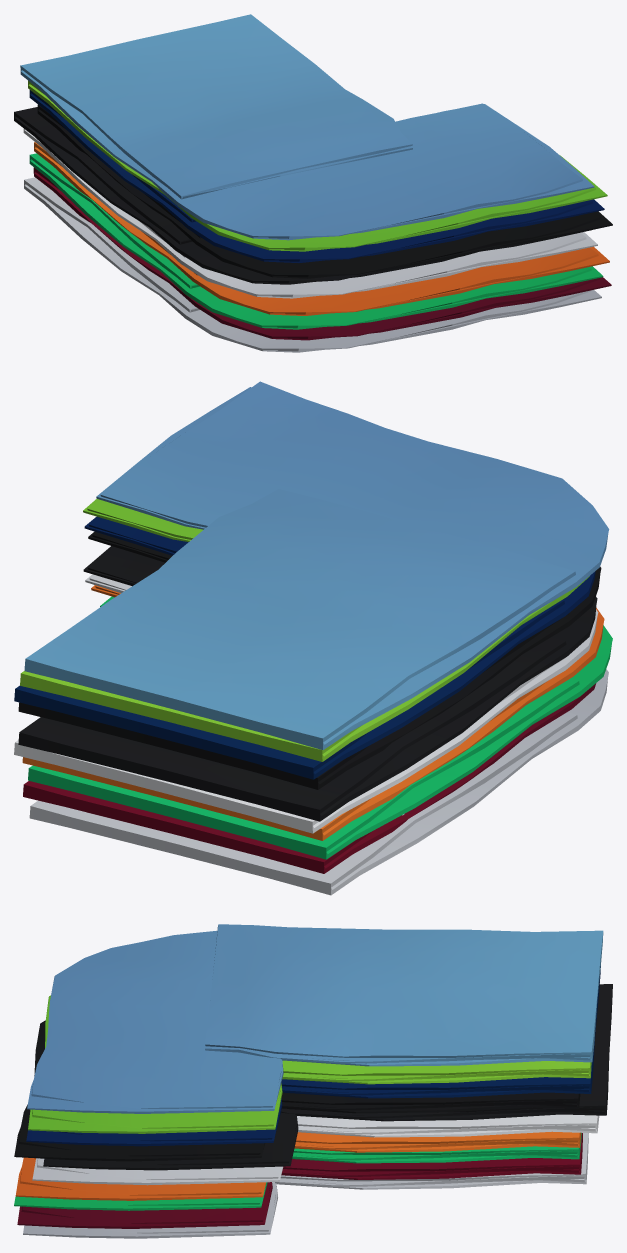
File: pilha_roupas.glb
The picture shows the model from 3 angles, top to bottom: view 1: azimuth 30°, elevation 25°; view 2: azimuth 150°, elevation 25°; view 3: azimuth 270°, elevation 25°; orthographic projection. The views are drawn at different scales.
Parts seen in each view (by area): view 1: pilha_roupas; view 2: pilha_roupas; view 3: pilha_roupas.
Part boxes in pixels (x1=…): pilha_roupas: x1=14, y1=14, x2=612, y2=352; pilha_roupas: x1=14, y1=381, x2=612, y2=895; pilha_roupas: x1=14, y1=924, x2=612, y2=1238.
Size of what is drawn, in the model's own units: 0.2772 by 0.1016 by 0.3725.
Materials: 1 (1 with a texture image).
